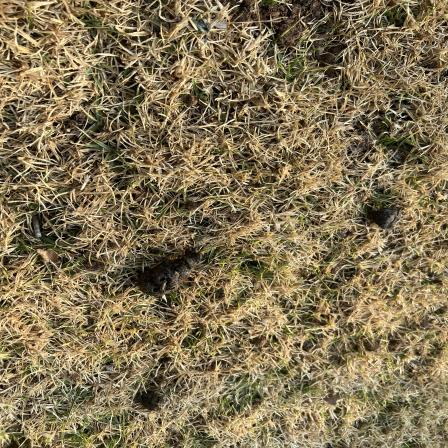dog-poop: (125, 238, 214, 308), (364, 196, 410, 235)
